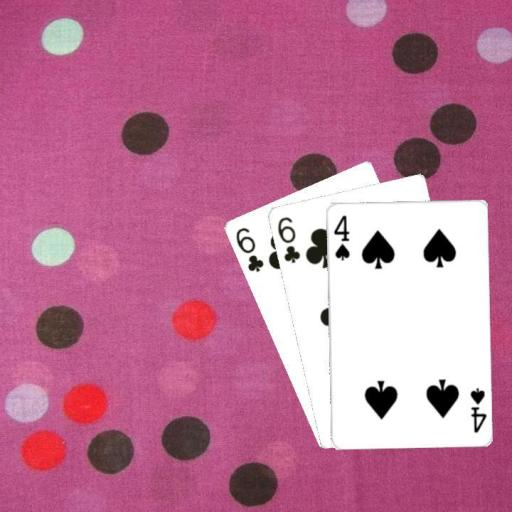4S: (330, 211, 351, 261), (467, 384, 487, 434)
6C: (232, 224, 264, 273), (274, 214, 301, 265)
